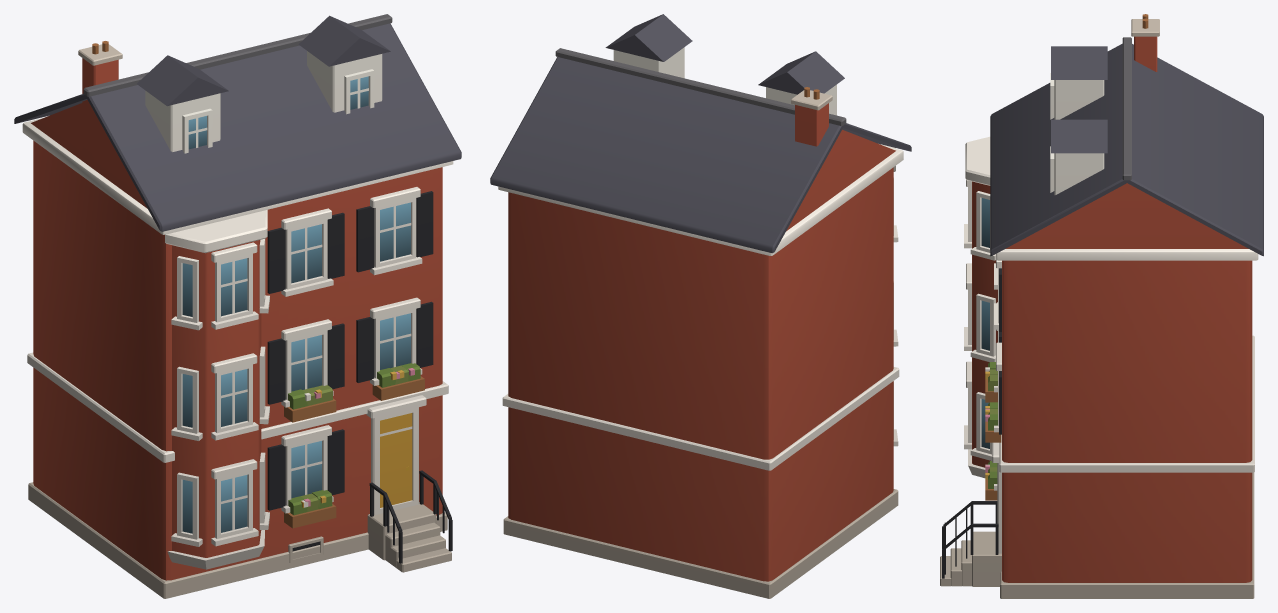
File: lane_w6.glb
3 views of the same model, side by side, from view 1: azimuth 30°, elevation 25°; view 2: azimuth 150°, elevation 25°; view 3: azimuth 270°, elevation 25° (orthographic). The views are drawn at different scales.
Visible parts, largest first — view 1: lane_w6; view 2: lane_w6; view 3: lane_w6.
Boxes of the visible parts, x1,y1,x2,y2 form: lane_w6: (14, 14, 461, 598); lane_w6: (490, 14, 911, 598); lane_w6: (940, 14, 1263, 598).
Size of the model in its own units: 9.8 by 15.19 by 9.71.
1 material, 1 textured.
